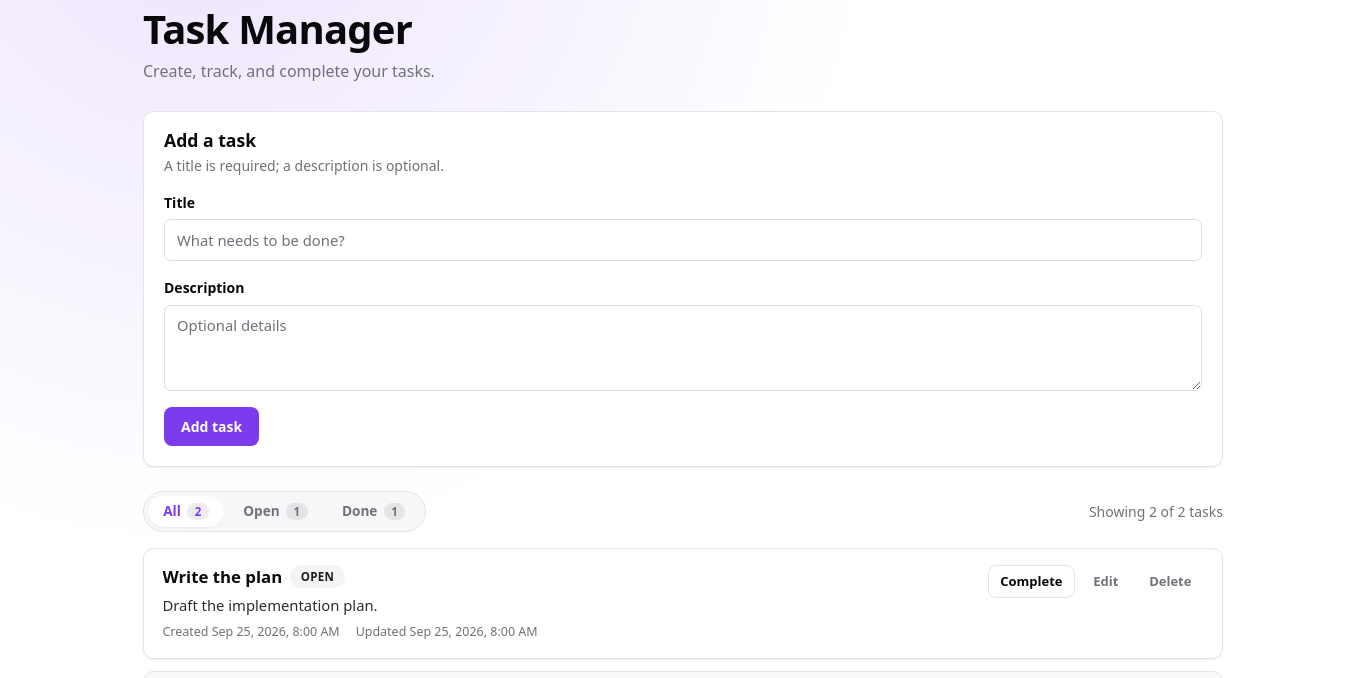
Test case: App › edits a task
Click the button with aria-label "Edit Write the plan": x=1106, y=582 [1081,565,1131,598]
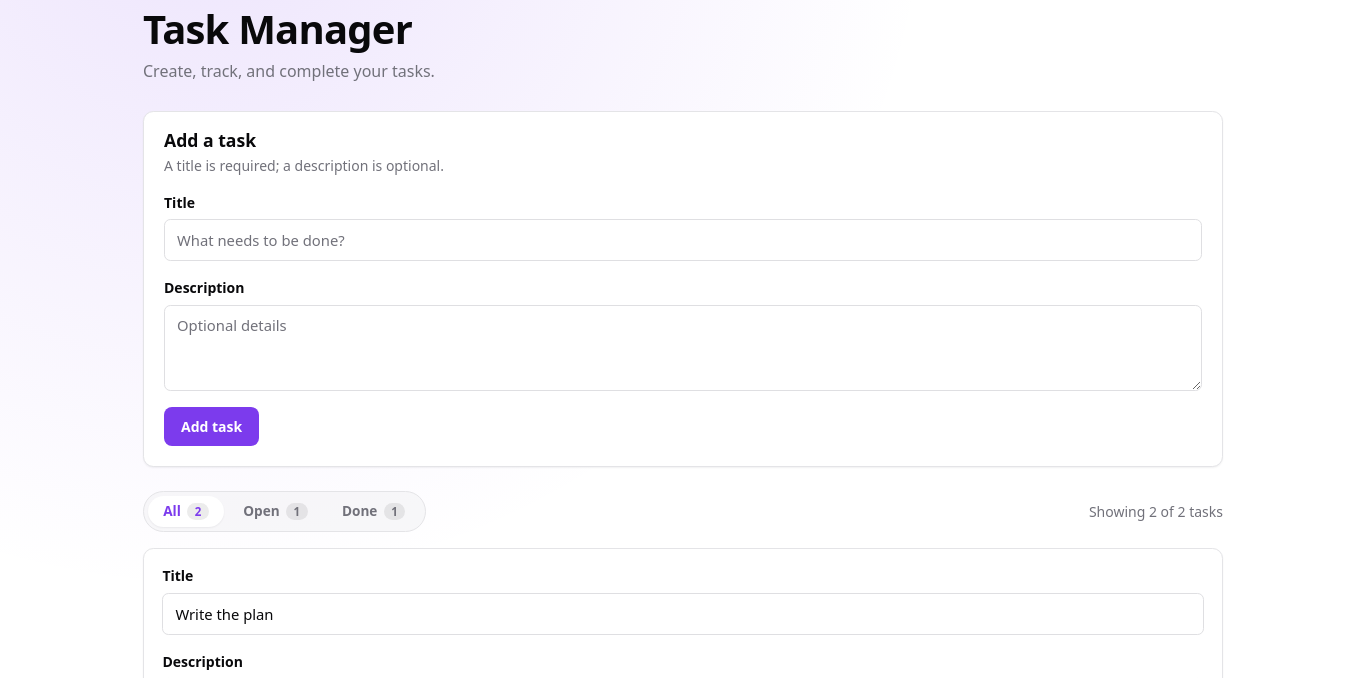
Replace the text in the field labelled "Title" below "Showing" with "Write the final plan": x=683, y=614 [162,593,1204,635]
(page scrolled)
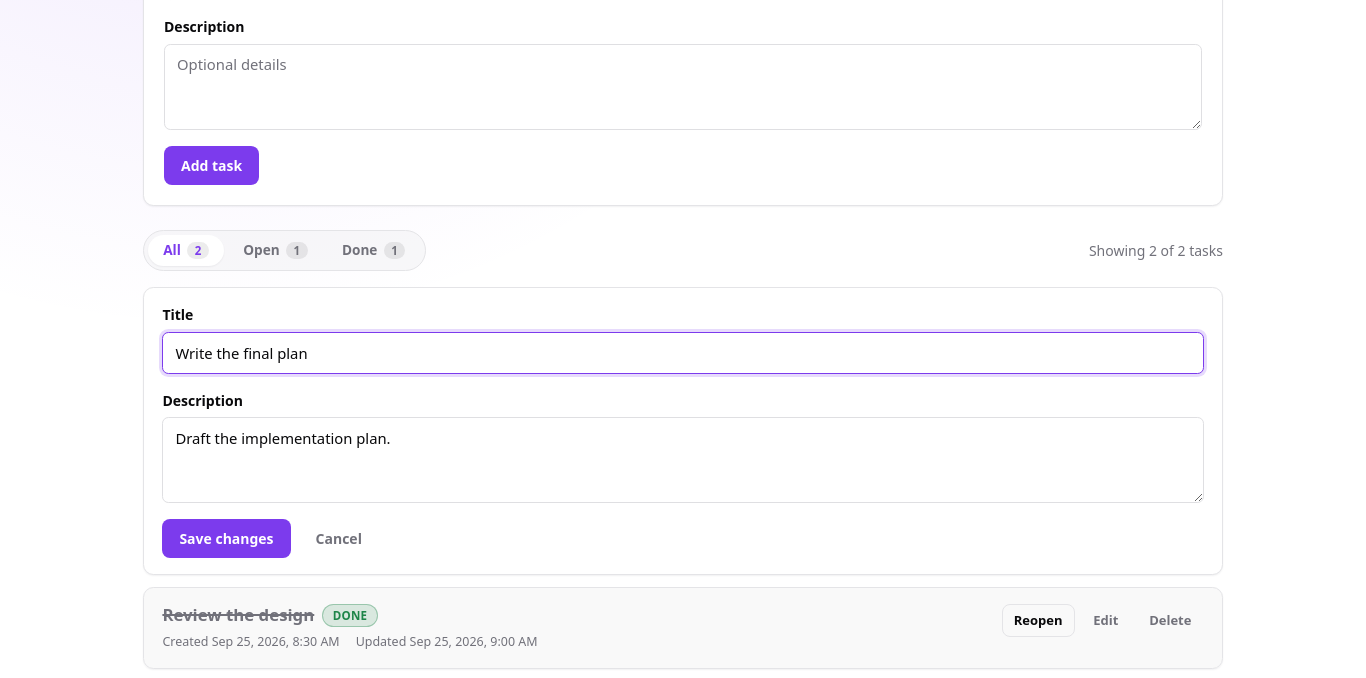
Click the button "Save changes": x=226, y=539 [162,519,291,558]
(page scrolled)
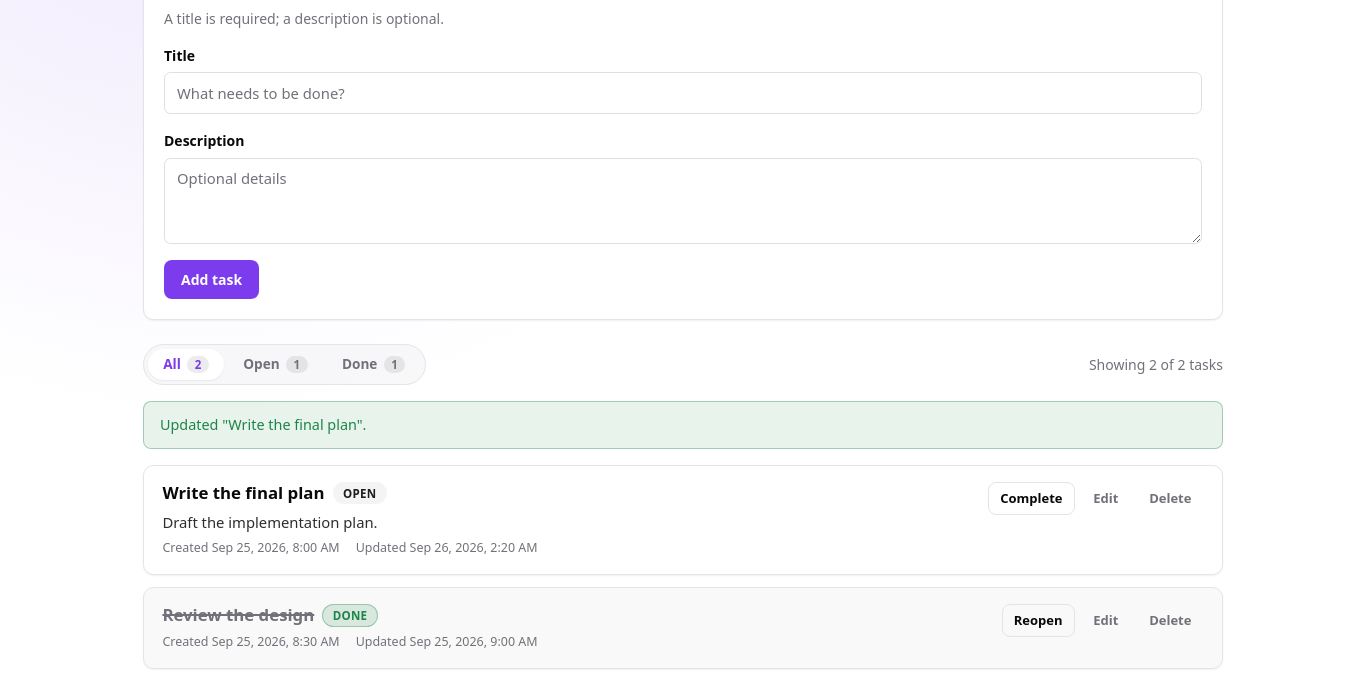
Expected: the text "Updated \"Write the final plan\"." is shown, [143,401,1223,449]
Expected: the heading "Write the final plan" is shown, [162,483,324,503]
Expected: the button "Save changes" is gone
